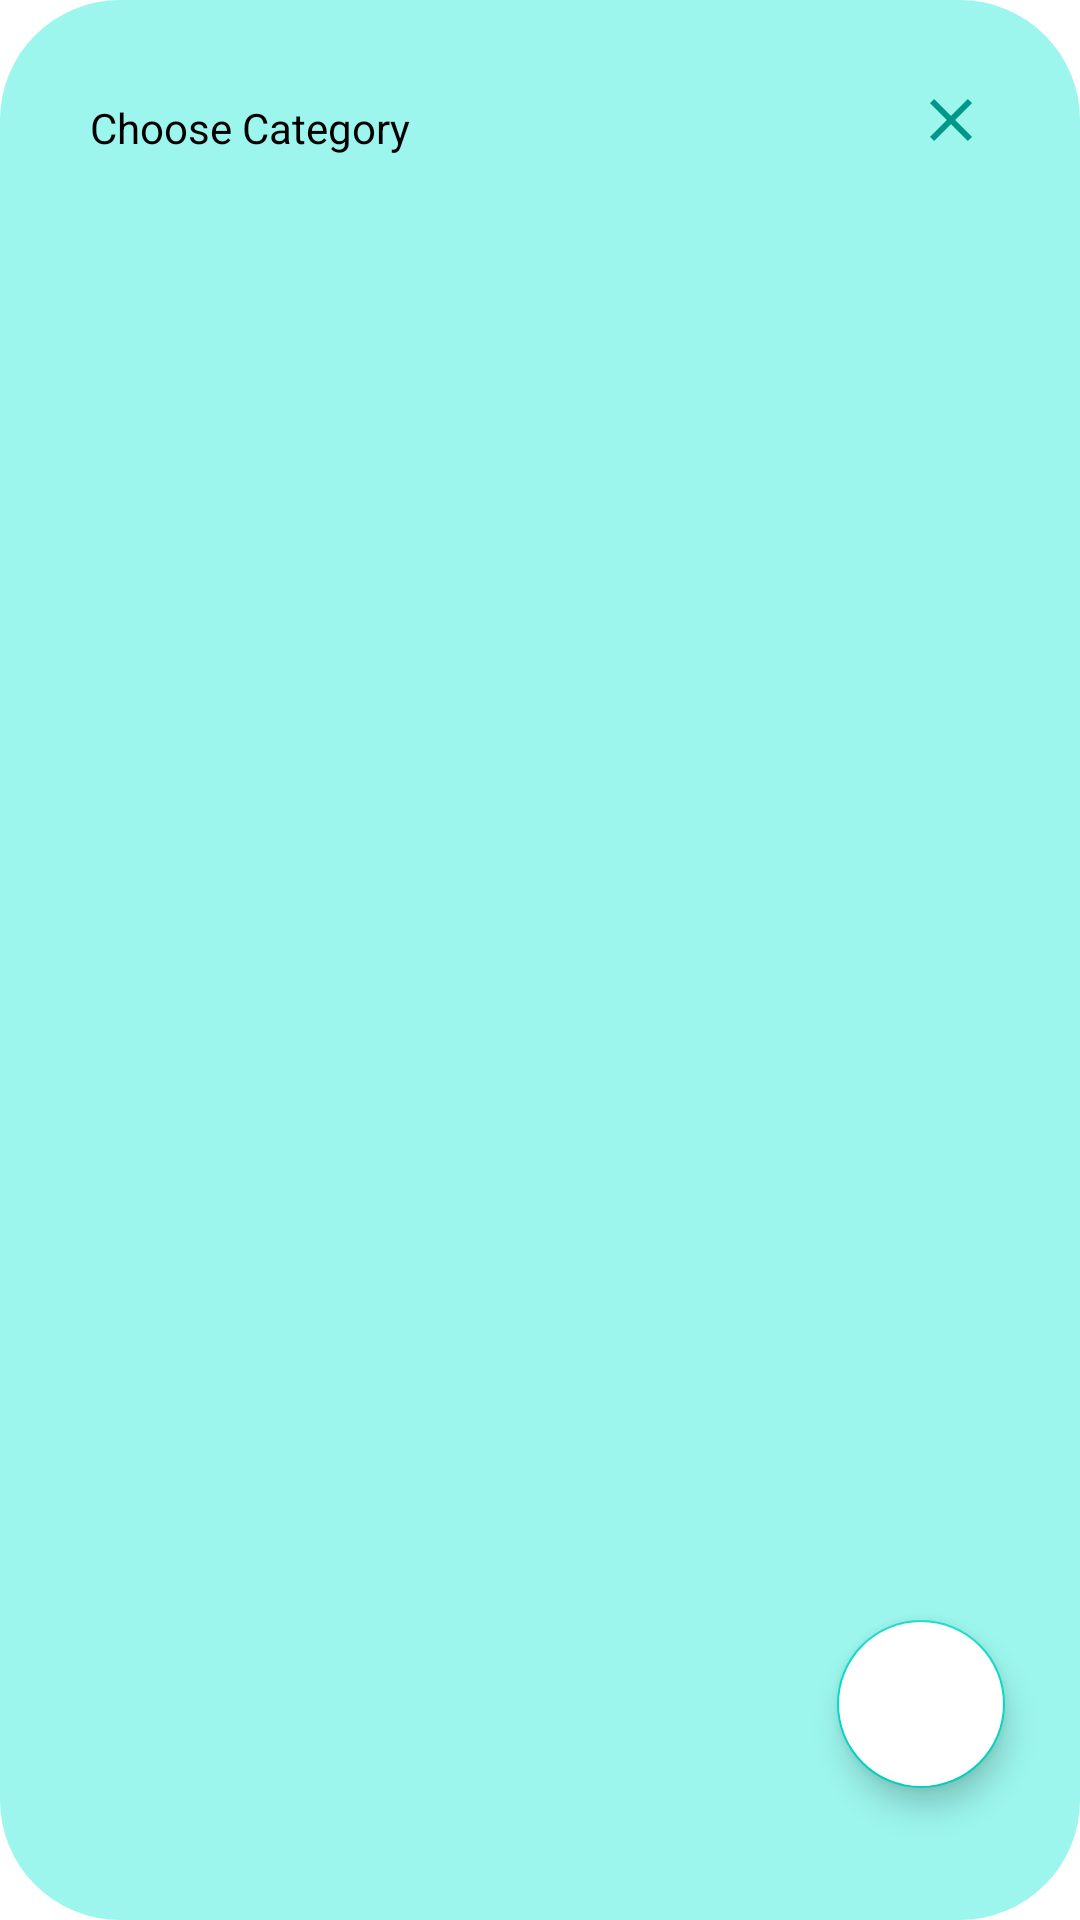

Icon bounding boxes for this 1080*1920 phone screenshot, format (x1,y1,x2,y2):
clear: (930,99,972,141)
